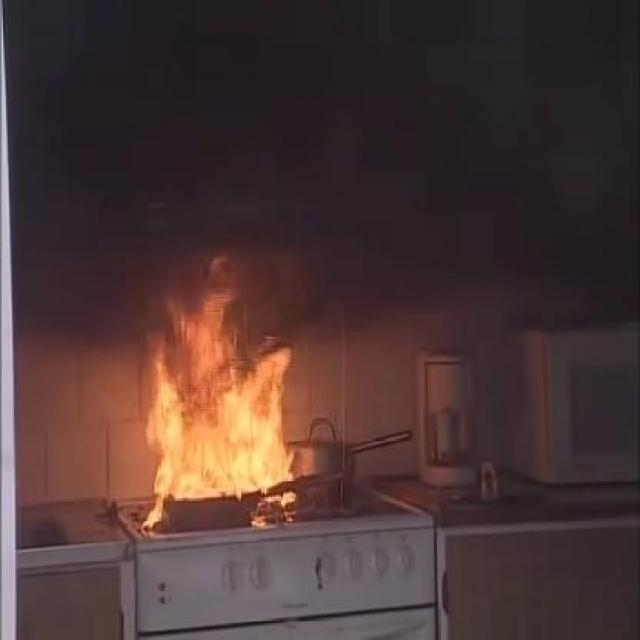fire: (130, 267, 332, 501)
